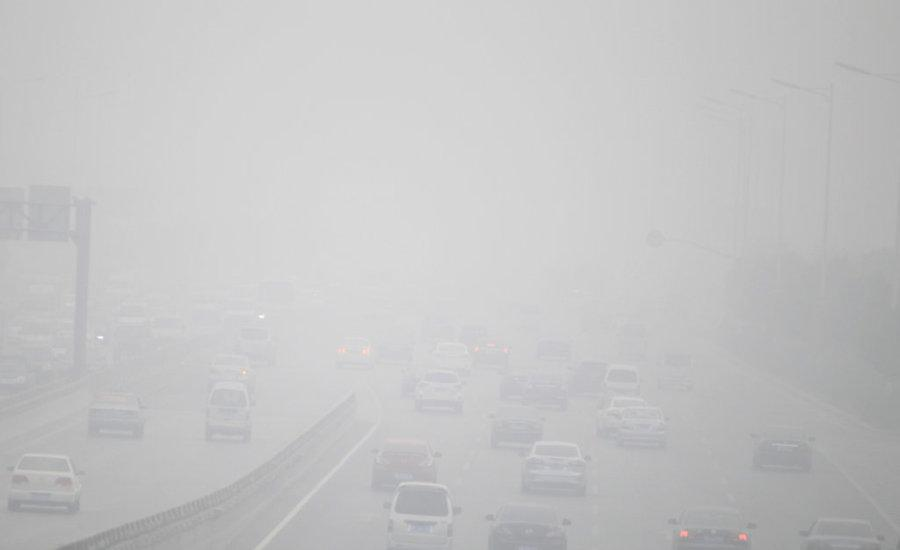bus: (257, 279, 296, 318)
car: (382, 481, 462, 550), (6, 454, 86, 515), (519, 441, 590, 497), (668, 505, 756, 550), (370, 437, 442, 492), (485, 505, 572, 550), (750, 425, 816, 473), (205, 381, 256, 443), (799, 517, 886, 550), (88, 392, 146, 440), (614, 405, 670, 449), (489, 404, 546, 447), (415, 369, 468, 414), (595, 397, 648, 436), (206, 353, 256, 393), (598, 365, 641, 411), (233, 326, 277, 366), (522, 376, 568, 412), (430, 341, 474, 377), (567, 359, 609, 395), (656, 352, 695, 390), (1, 352, 38, 392), (113, 324, 151, 362), (472, 336, 512, 372), (335, 336, 374, 371), (20, 343, 54, 382), (15, 319, 53, 353), (148, 315, 188, 345), (400, 366, 435, 400), (615, 325, 648, 361), (376, 331, 414, 362), (535, 331, 574, 359), (499, 371, 533, 401), (457, 324, 491, 353), (143, 294, 177, 323), (190, 306, 219, 337), (224, 298, 256, 326), (119, 301, 150, 329), (54, 320, 83, 348)
